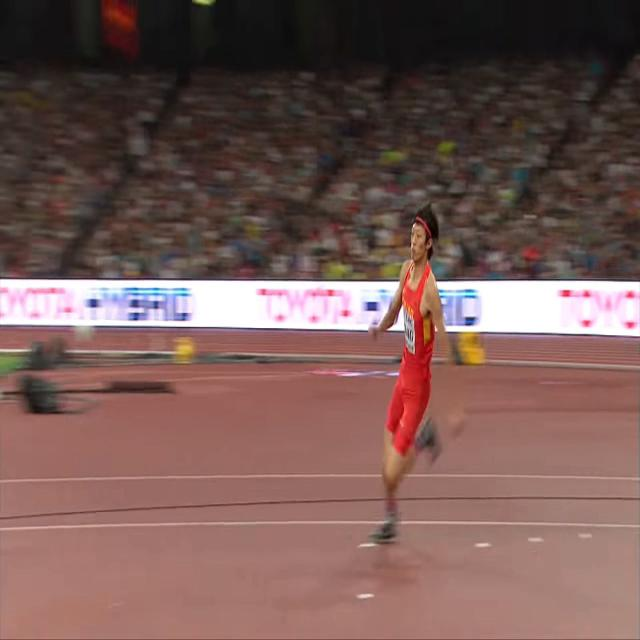run: (368, 206, 466, 543)
